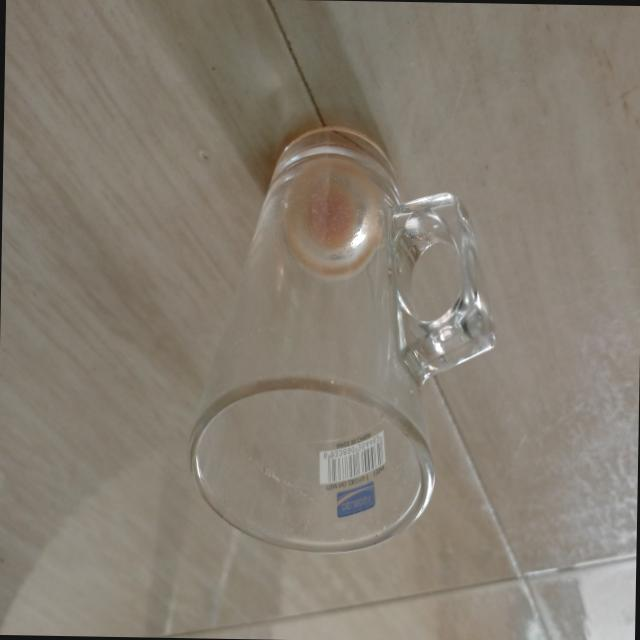glass-VX4N: (179, 116, 501, 561)
